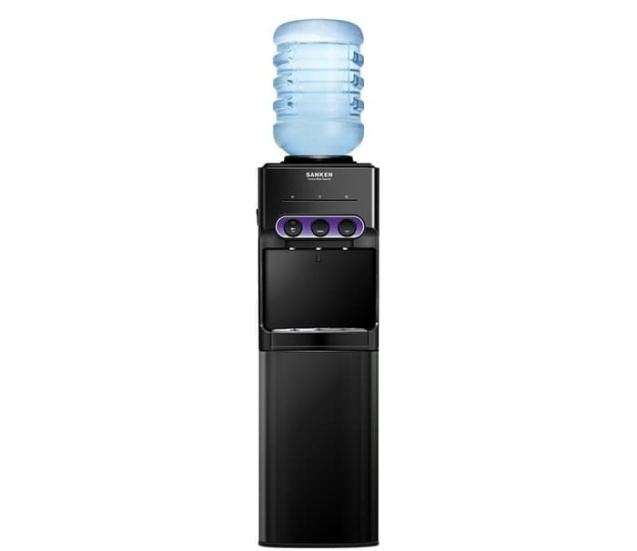Dispenser: (256, 17, 379, 547)
